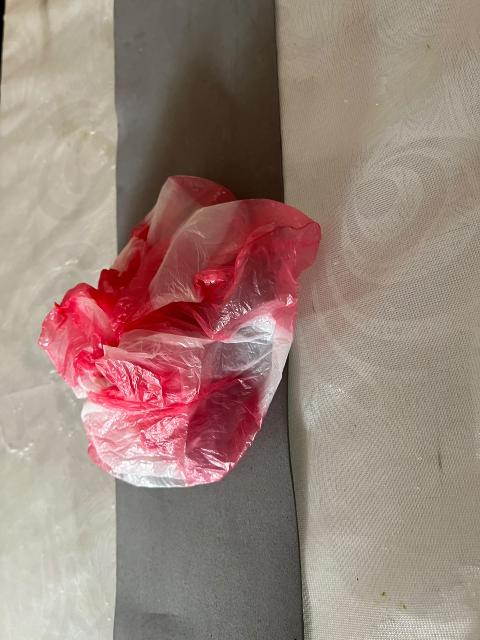LDPE: (15, 151, 368, 572)
